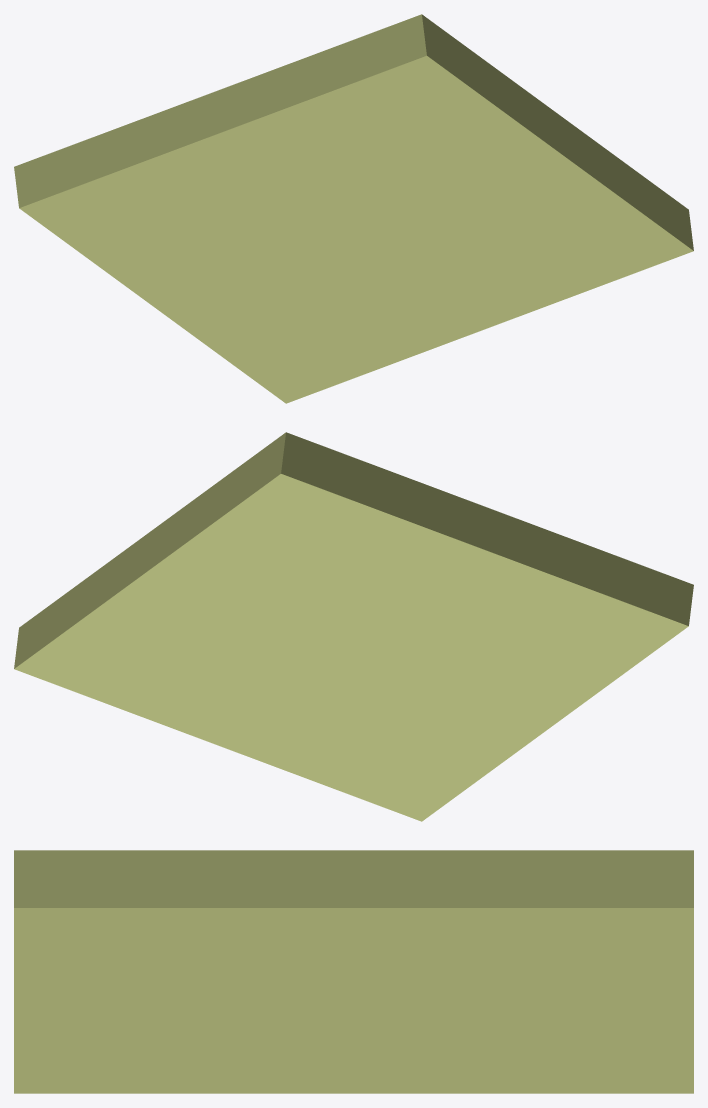
The picture shows the model from 3 angles, top to bottom: view 1: azimuth 30°, elevation 25°; view 2: azimuth 150°, elevation 25°; view 3: azimuth 270°, elevation 25°; orthographic projection. The views are drawn at different scales.
Visible parts, largest first — view 1: 0_1_3_2_2_2_1_2_2_1_3; view 2: 0_1_3_2_2_2_1_2_2_1_3; view 3: 0_1_3_2_2_2_1_2_2_1_3.
Part boxes in pixels (x1,y1,x2,y2): 0_1_3_2_2_2_1_2_2_1_3: (14, 14, 693, 403); 0_1_3_2_2_2_1_2_2_1_3: (14, 432, 693, 821); 0_1_3_2_2_2_1_2_2_1_3: (14, 850, 693, 1093).
Size of the model in its own units: 8.03 by 1.78 by 9.
